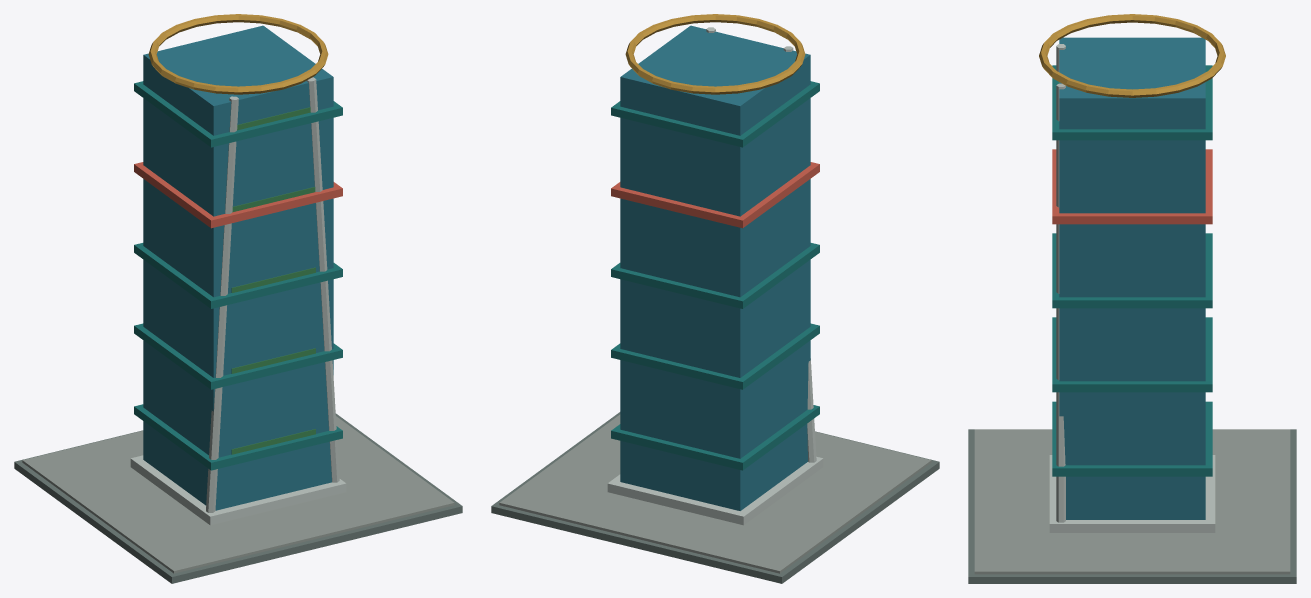
Rendered from civic_tower_lv2.glb.
3 views of the same model, side by side, from view 1: azimuth 30°, elevation 25°; view 2: azimuth 150°, elevation 25°; view 3: azimuth 270°, elevation 25° (orthographic). The views are drawn at different scales.
Visible parts, largest first — view 1: glossy, rough; view 2: glossy, rough; view 3: glossy, rough.
Boxes of the visible parts, bbox=[...] form: glossy: bbox=[143, 25, 333, 510]; rough: bbox=[14, 14, 462, 583]; glossy: bbox=[620, 25, 810, 510]; rough: bbox=[491, 14, 939, 583]; glossy: bbox=[1059, 37, 1205, 519]; rough: bbox=[968, 14, 1296, 583].
Size of the model in its own units: 9.8 by 14.15 by 9.2.
